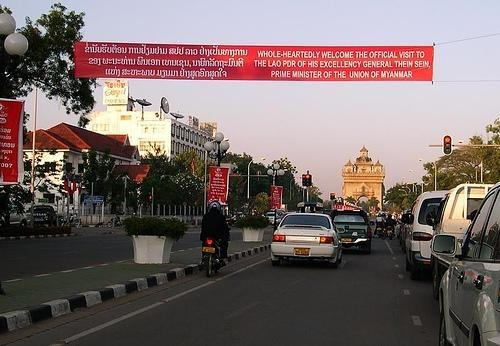car: (431, 187, 500, 341), (428, 182, 500, 303), (402, 190, 451, 281), (270, 214, 343, 268), (395, 214, 408, 251), (10, 206, 32, 226), (266, 212, 280, 223), (369, 218, 376, 236)
motorcycle: (200, 235, 220, 276), (376, 224, 388, 240), (386, 225, 394, 240)
truck: (428, 185, 500, 341), (327, 207, 374, 255)
